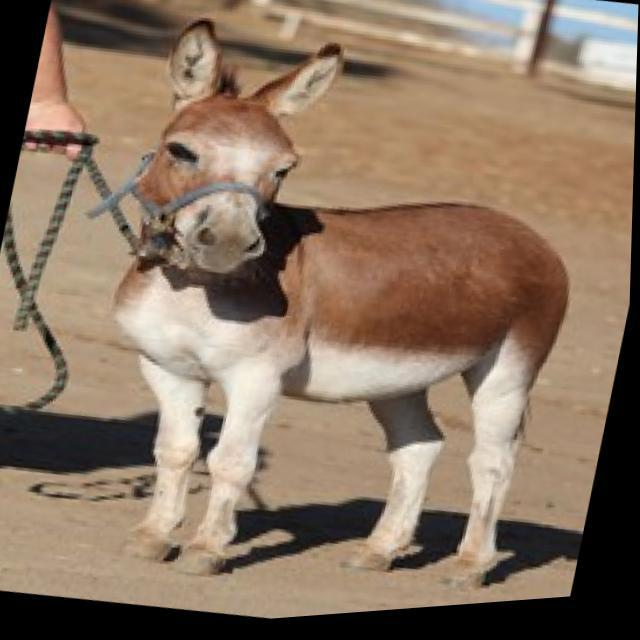Donkey: (58, 0, 624, 636)
